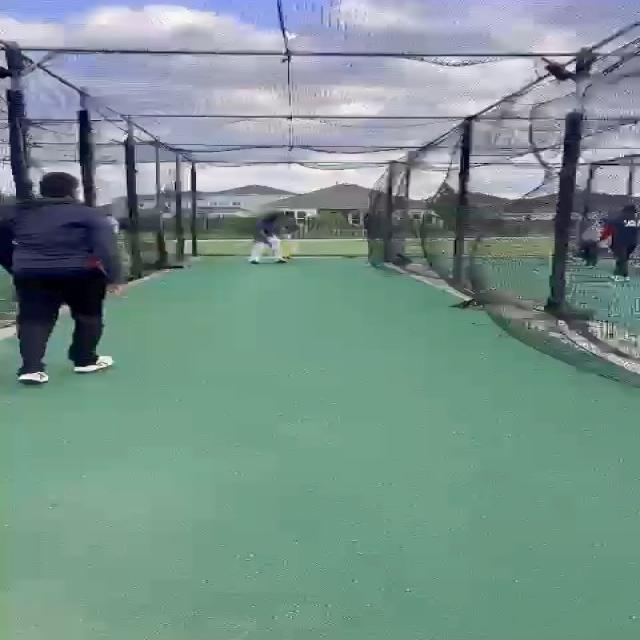batsman: (246, 215, 291, 264)
